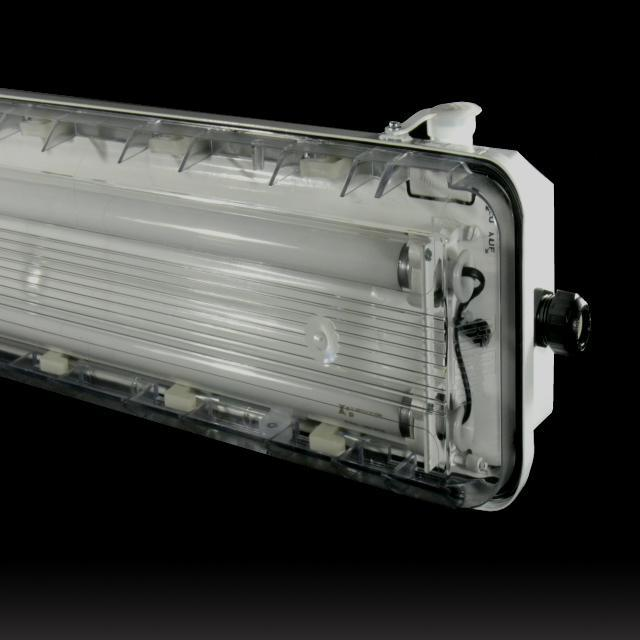light: (0, 87, 591, 513)
